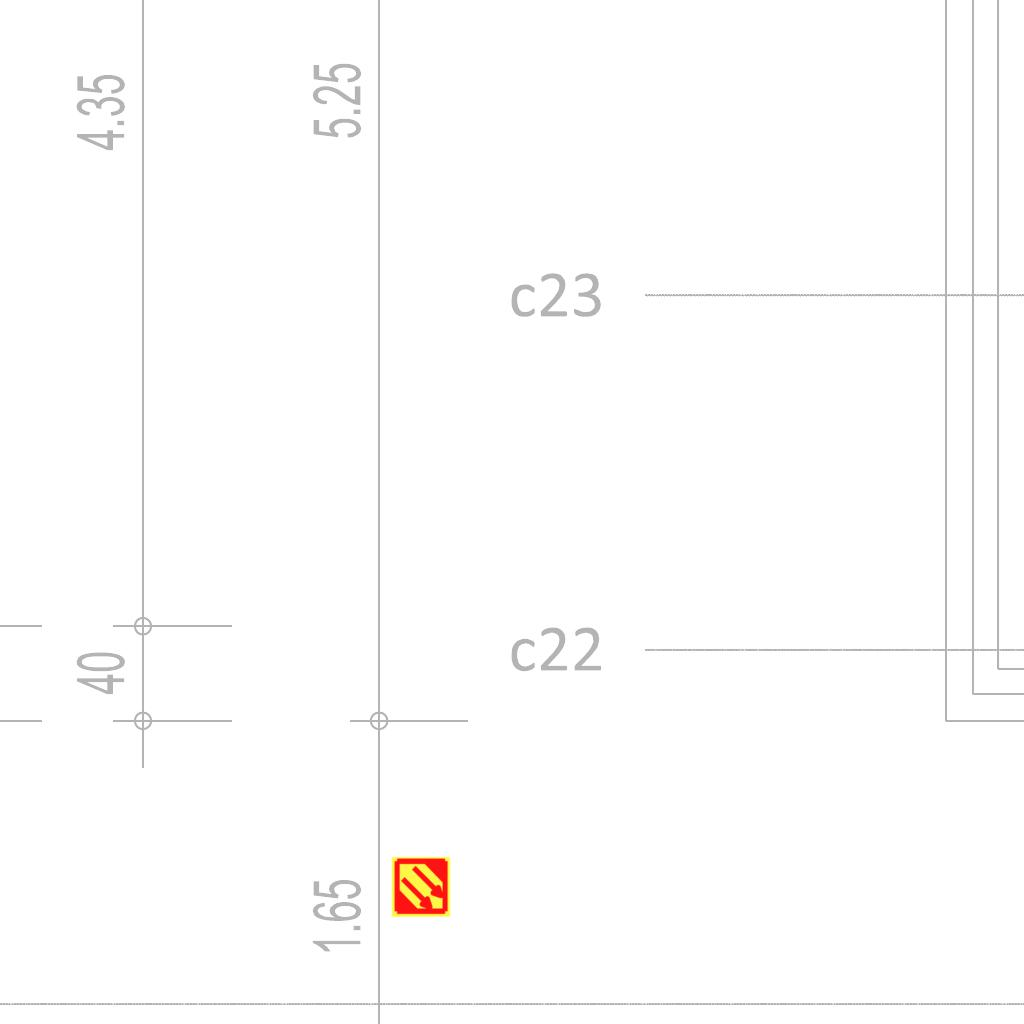ASR_Ansaugrauchmelder: (390, 856, 452, 918)
